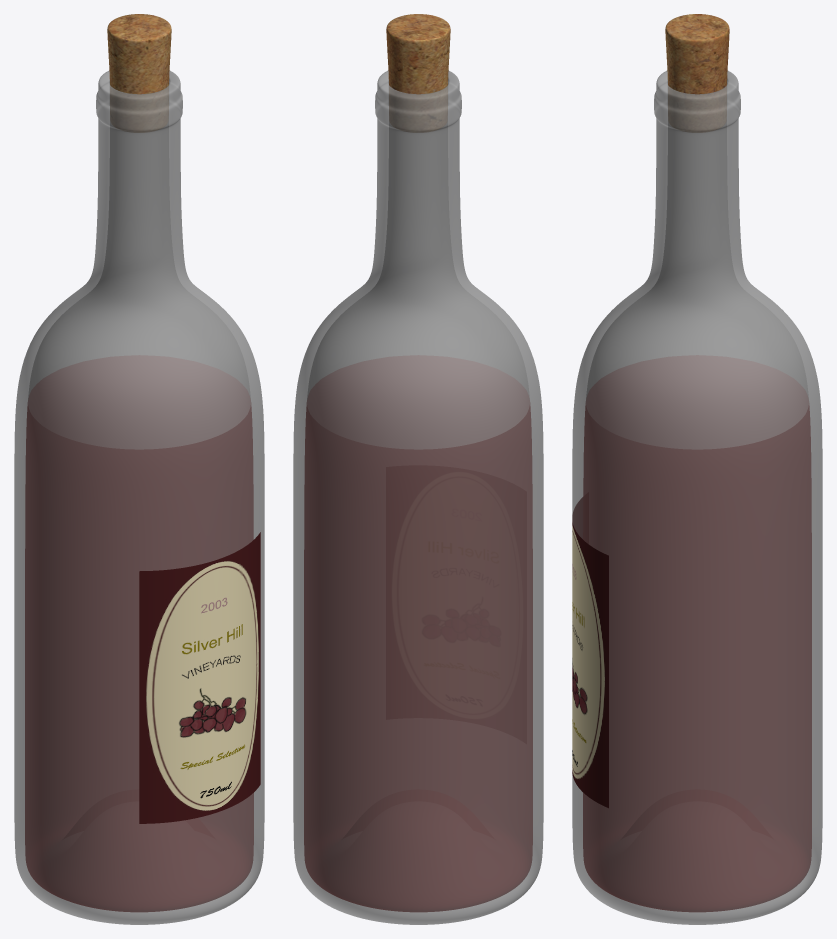
The model's file is Wine Bottle.fbx.
The picture shows the model from 3 angles, left to right: view 1: azimuth 30°, elevation 25°; view 2: azimuth 150°, elevation 25°; view 3: azimuth 270°, elevation 25°; orthographic projection.
Visible parts, largest first — view 1: Wine Bottle; view 2: Wine Bottle; view 3: Wine Bottle.
Part boxes in pixels (x1,y1,x2,y2): Wine Bottle: [14, 14, 264, 924]; Wine Bottle: [293, 14, 543, 924]; Wine Bottle: [572, 14, 822, 924].
Size of the model in its own units: 840 by 3156 by 840.
